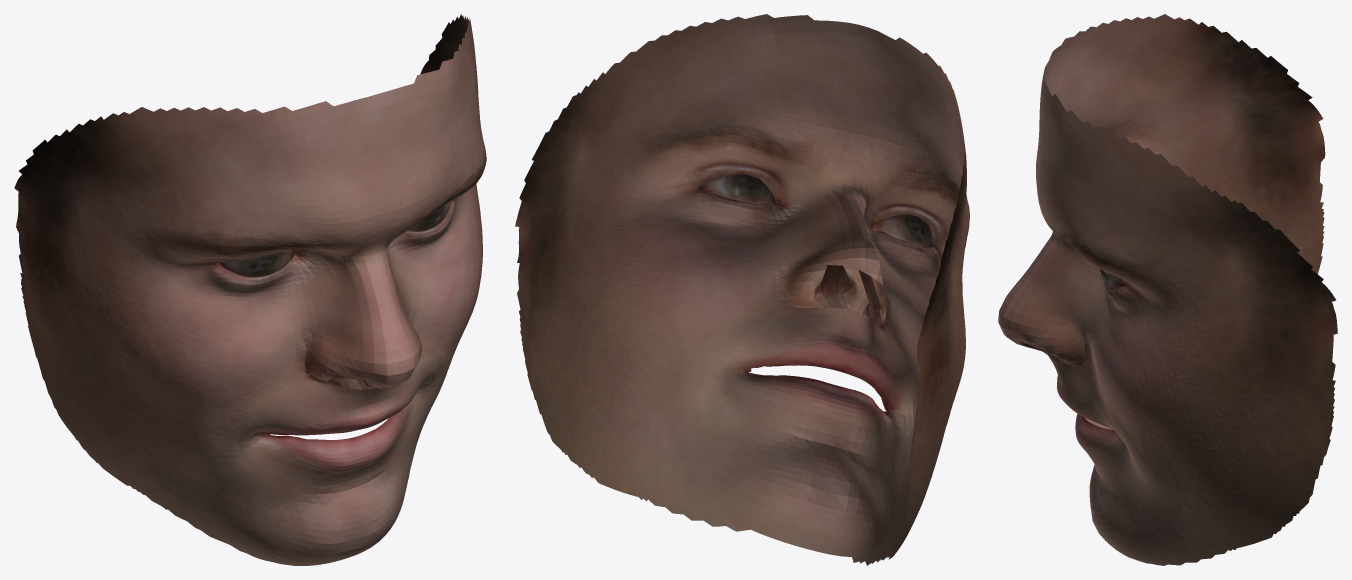
The model's file is happy1_mesh.obj.
3 views of the same model, side by side, from view 1: azimuth 30°, elevation 25°; view 2: azimuth 150°, elevation 25°; view 3: azimuth 270°, elevation 25° (orthographic). The views are drawn at different scales.
Size of the model in its own units: 1.46 by 1.7 by 1.1.
